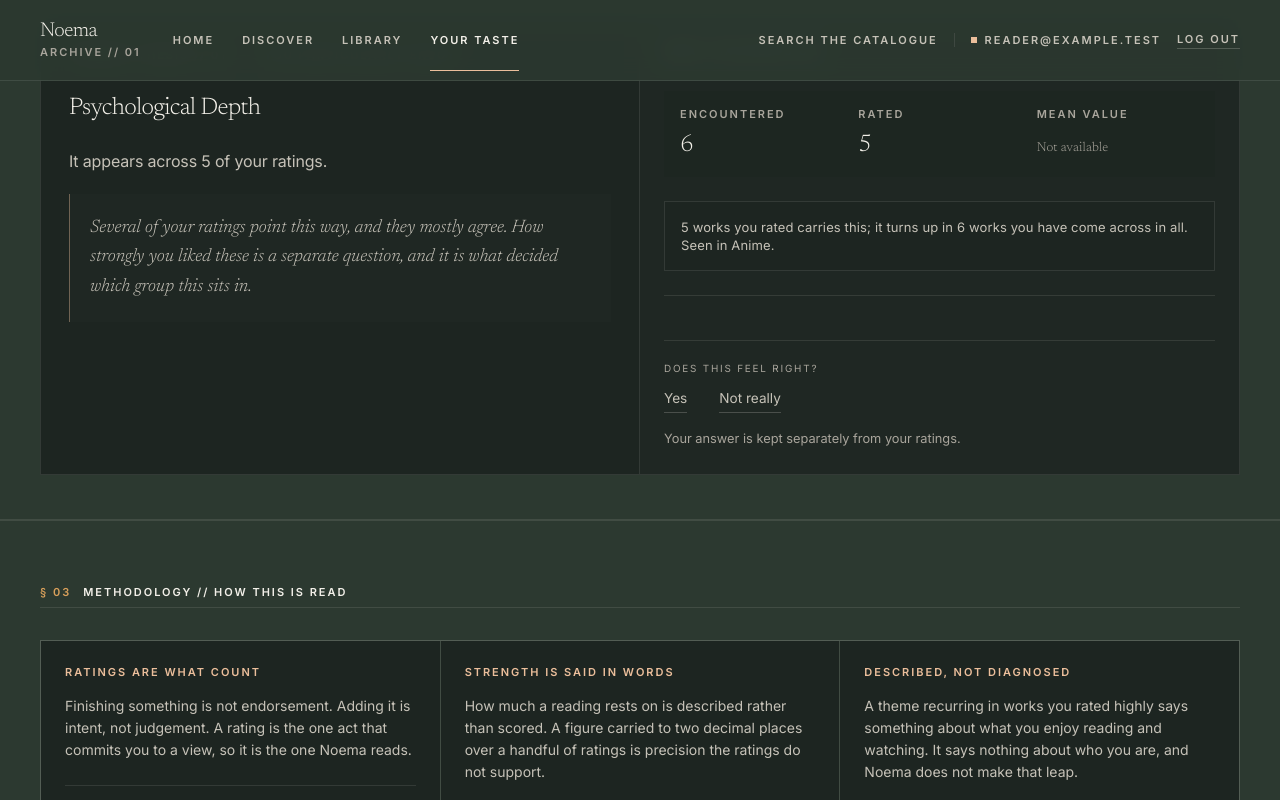
Scenario: TasteProfile › says so when an answer fails to save
(page scrolled)
Expected: the heading "Psychological Depth" is shown, x1=69 y1=96 x2=260 y2=120
Click the button "Yes". click: click(676, 401)
box: x1=664 y1=388 x2=687 y2=413
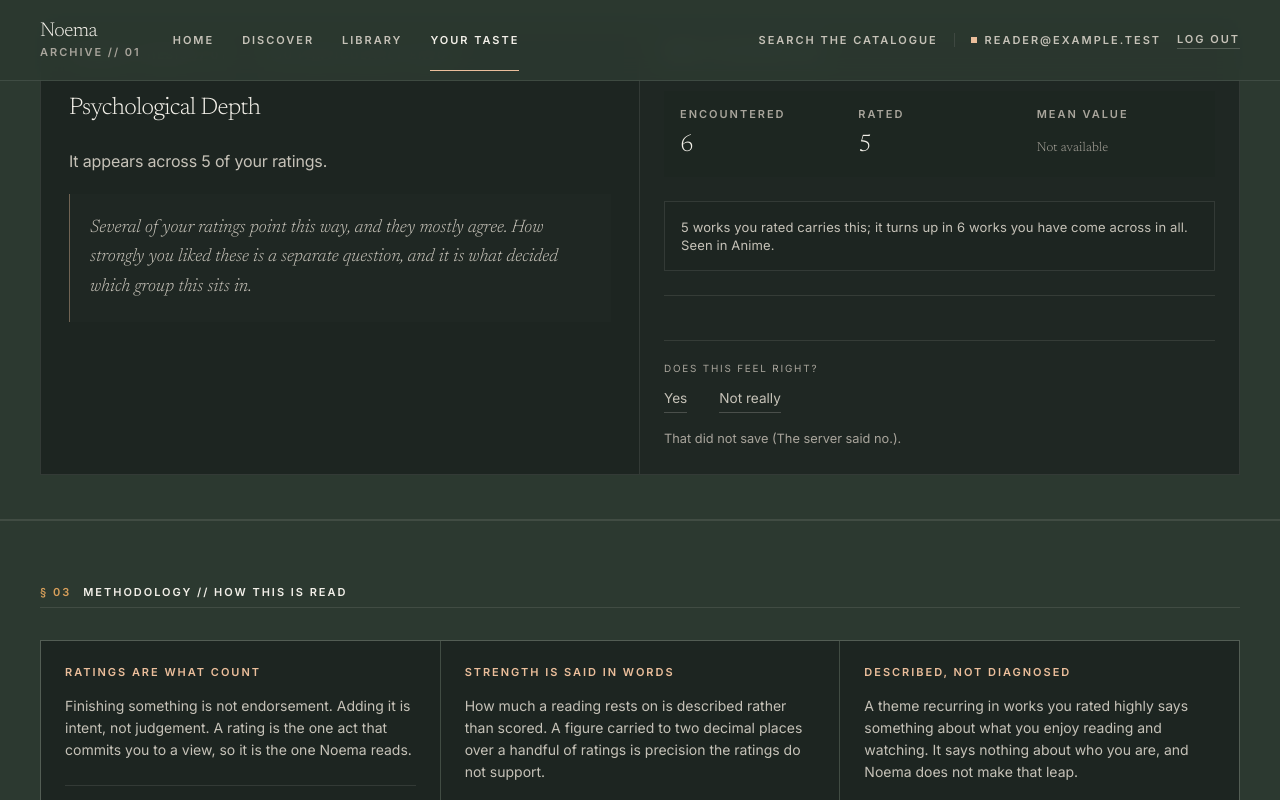
Expected: the text "That did not save (The server said no.)." is shown, x1=664 y1=431 x2=901 y2=446
